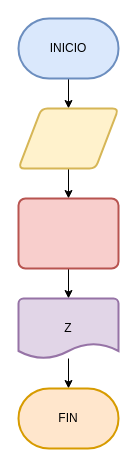
Image size: 136x466. Some labels were removed from this diagram. The box of each missing label's shape, as (x1, y1, x2, y2) in pixels:
X , Y: (17, 107, 119, 169)
Z= X+Y: (17, 197, 119, 269)
